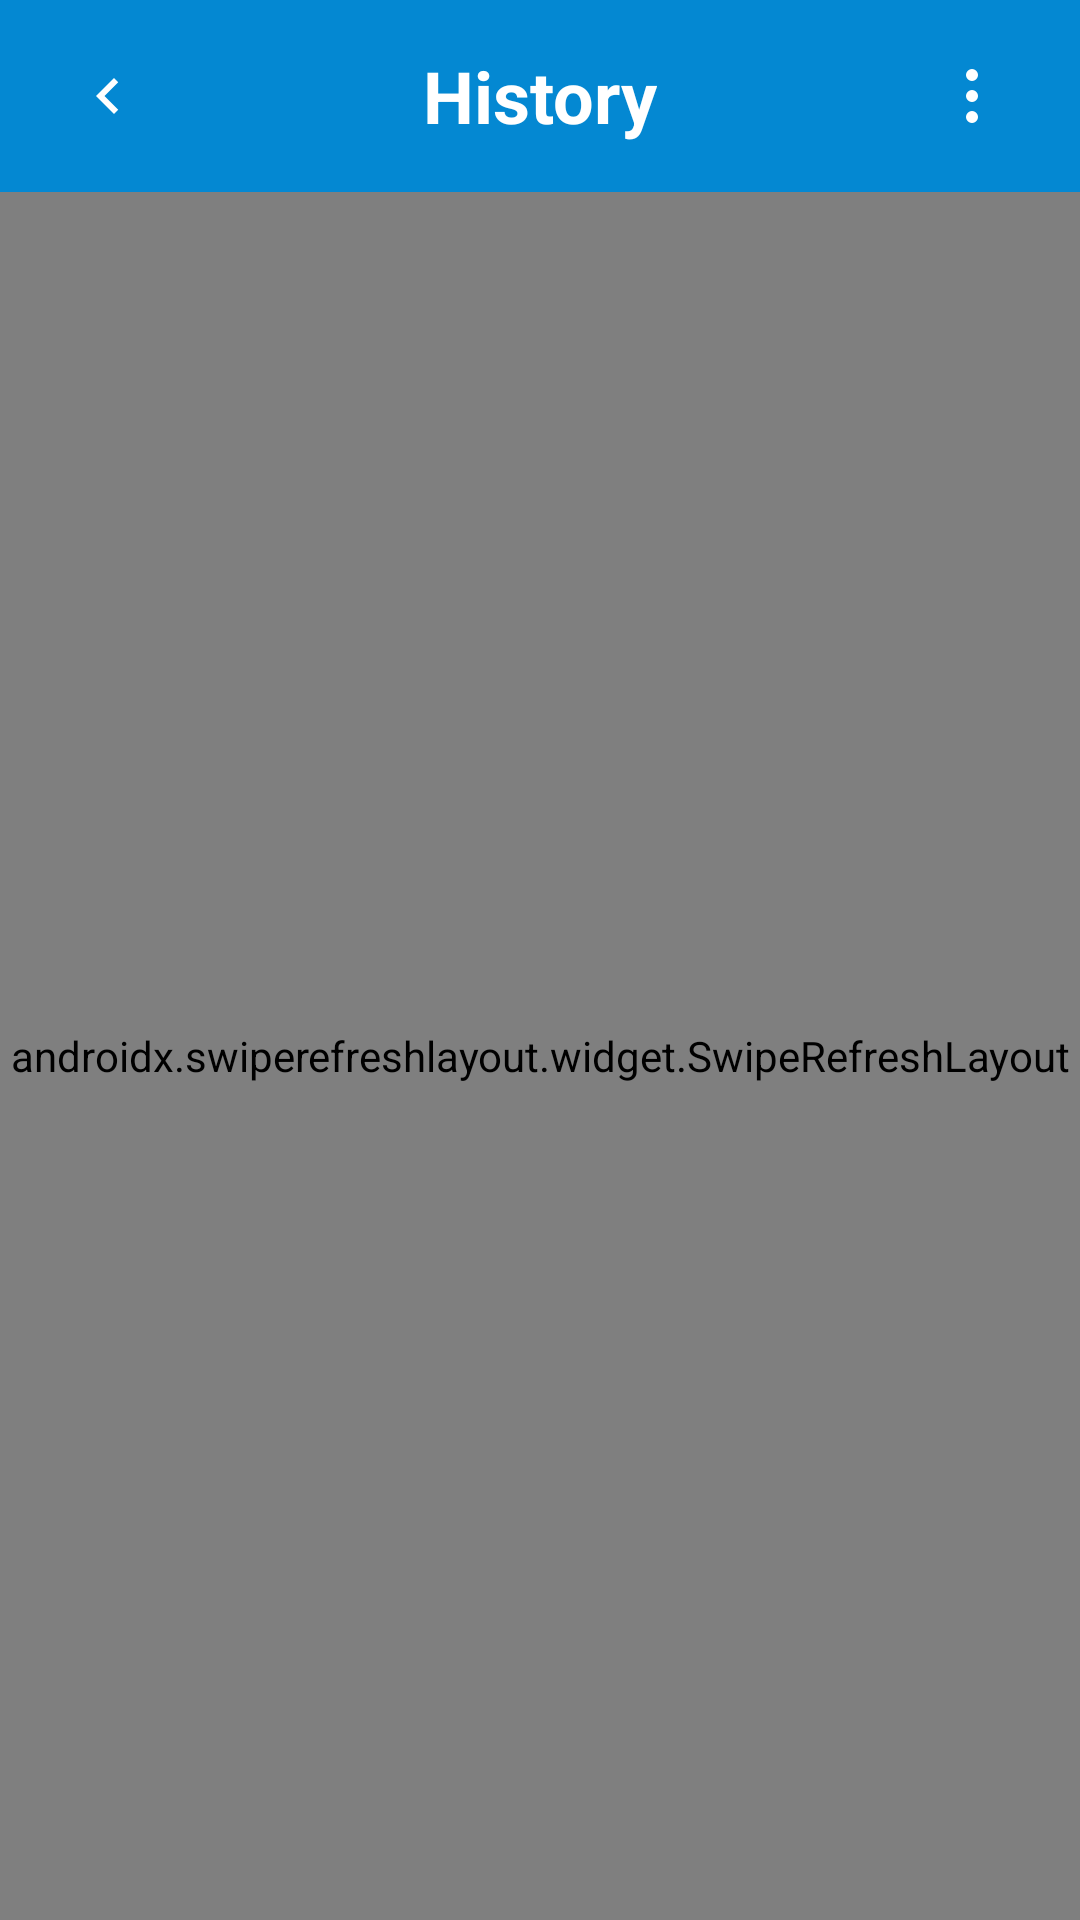

Icons on this 1080w x 1920h Android screen, each with its box as (x1, y1, x2, y2):
Back: (96, 78, 118, 114)
More options: (966, 69, 978, 123)
